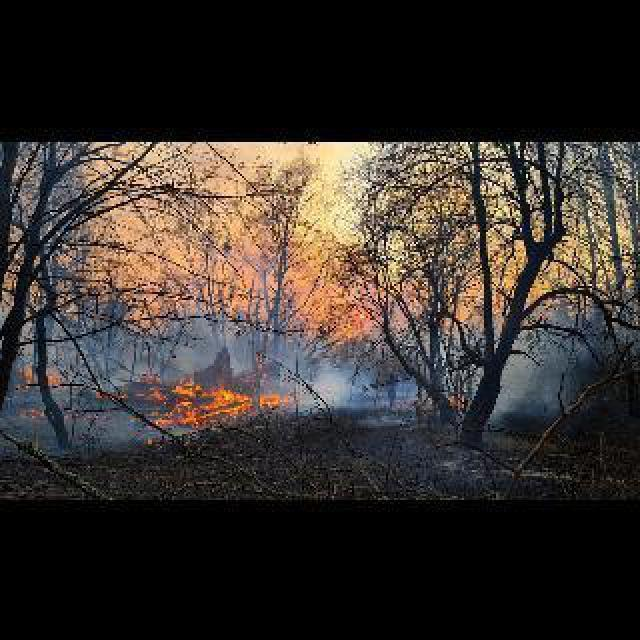Fire: (148, 378, 272, 428)
Smoke: (8, 307, 610, 447)
